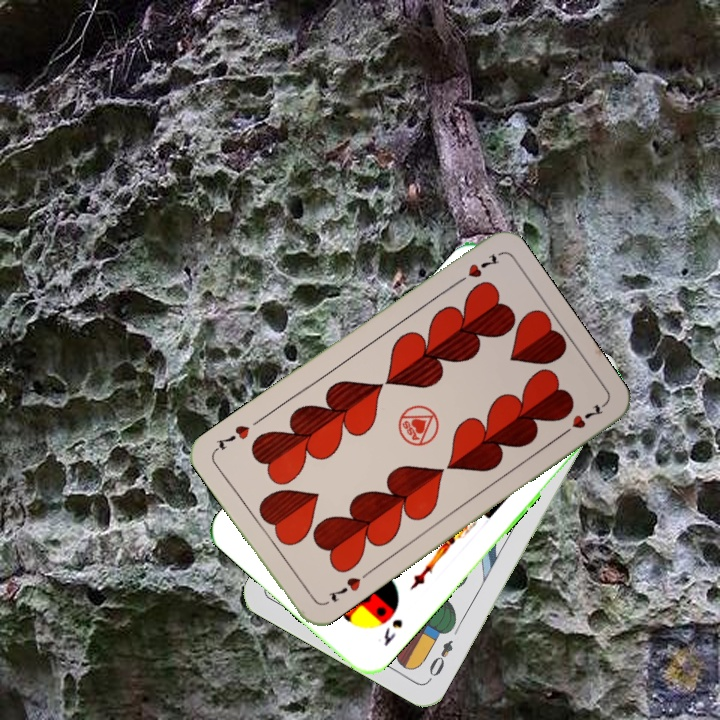EO: (424, 635, 456, 679)
H7: (450, 249, 502, 288), (324, 572, 364, 605)
SK: (379, 614, 406, 649)
